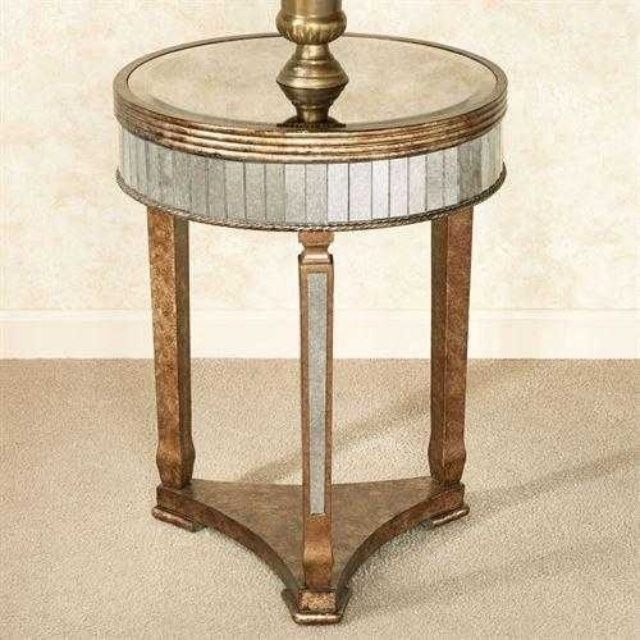obstacle: (114, 0, 506, 622)
